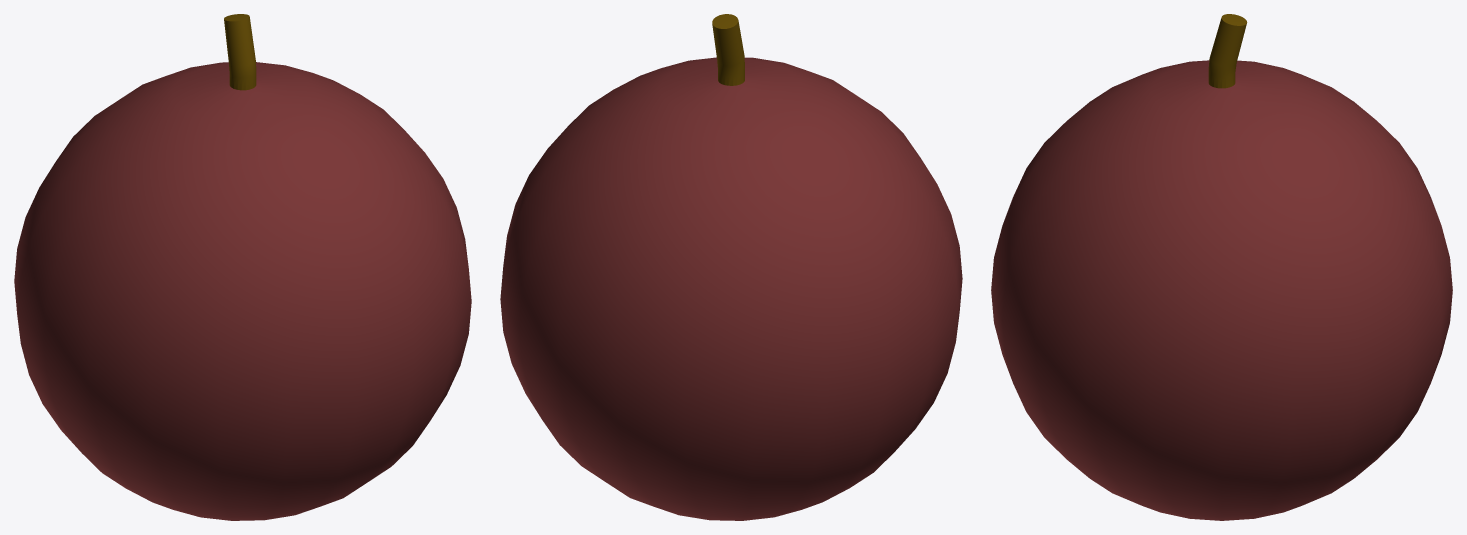
File: Apple.fbx
3 renders of one model, left to right at view 1: azimuth 30°, elevation 25°; view 2: azimuth 150°, elevation 25°; view 3: azimuth 270°, elevation 25°, orthographic.
Visible parts, largest first — view 1: Apple; view 2: Apple; view 3: Apple.
Boxes of the visible parts, x1,y1,x2,y2 form: Apple: [14, 14, 471, 520]; Apple: [500, 14, 962, 520]; Apple: [991, 14, 1452, 520].
Size of the model in its own units: 0.02 by 0.0225 by 0.02.
